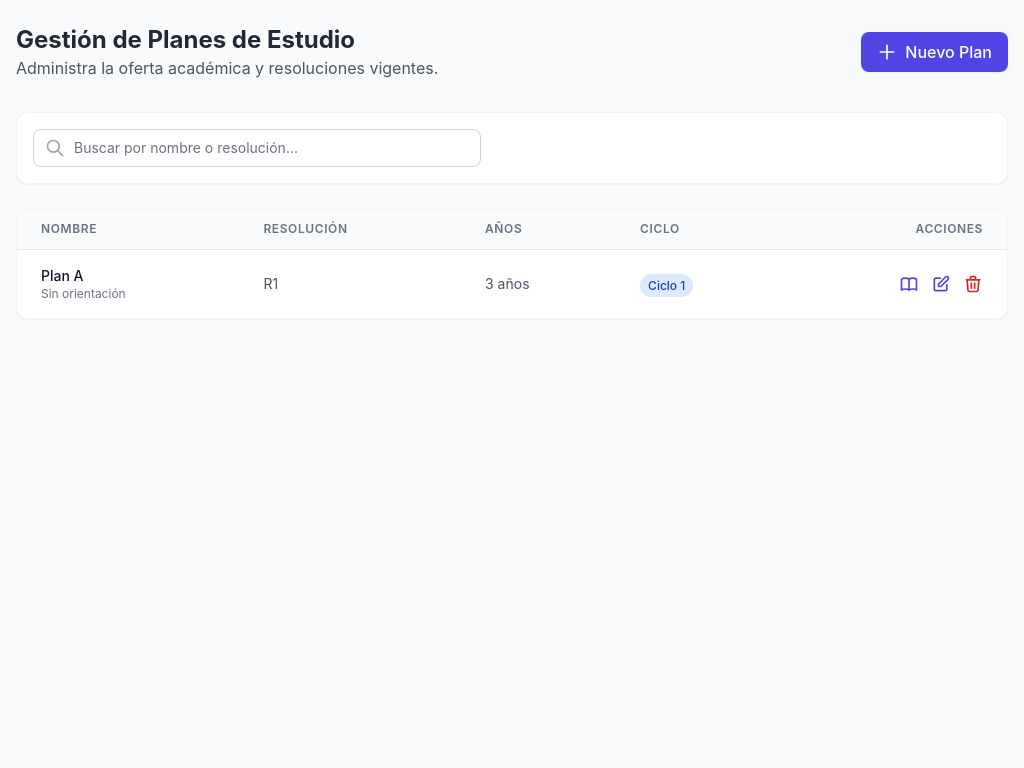
Test: PlanManagement Component › debe abrir el modal al hacer click en "Nuevo Plan"
The width and height of the screenshot is (1024, 768).
Click the button "Nuevo Plan": (935, 52) [861,32,1008,72]
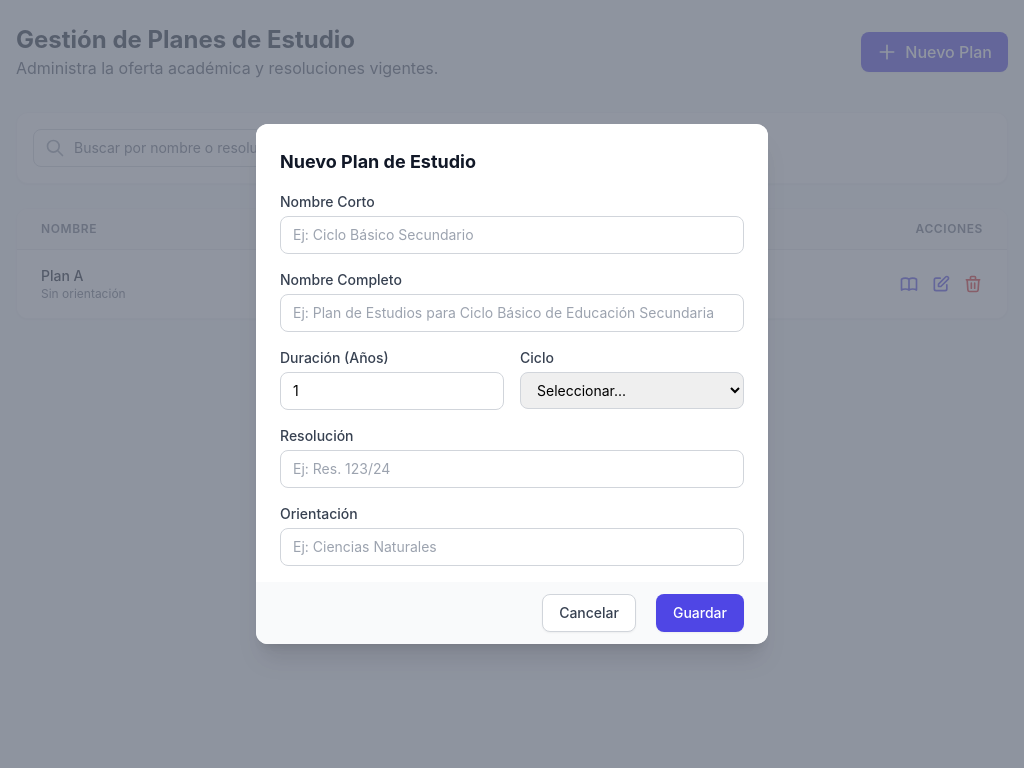
Expected: the heading "Nuevo Plan de Estudio" is shown, [280,151,476,172]
